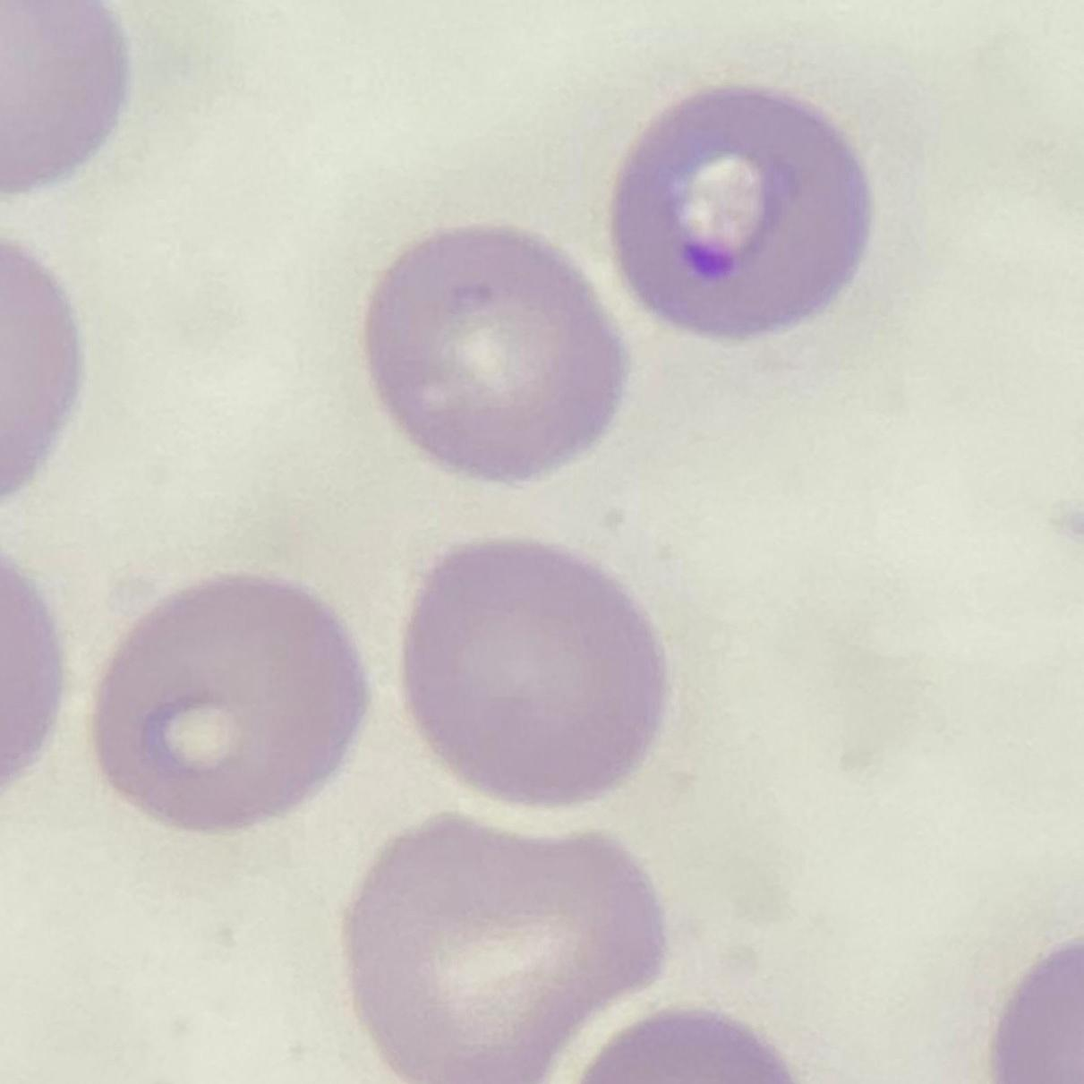Infected: (615, 81, 863, 336)
Uninfected: (351, 815, 659, 1079), (94, 569, 374, 839), (405, 535, 668, 805), (369, 222, 634, 485)
